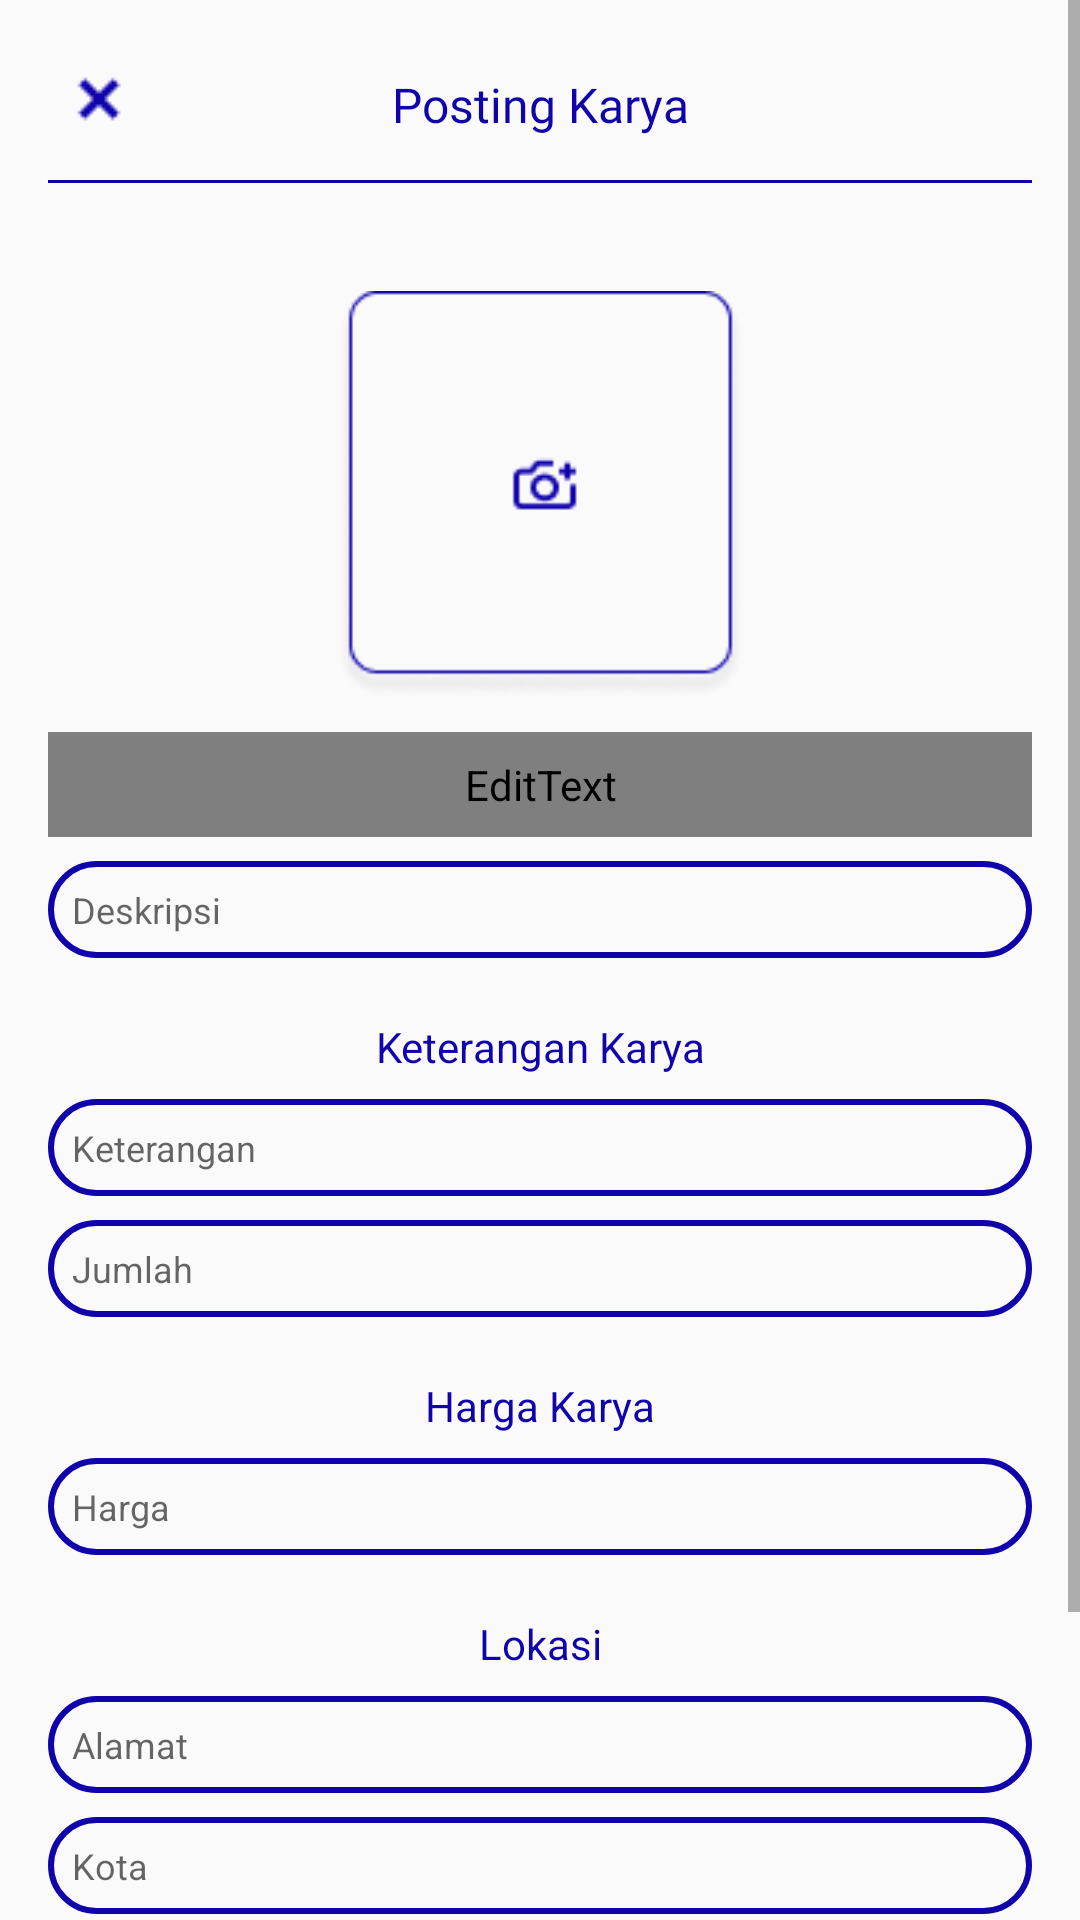

Where icons sit on this 1080×1920 app screen, as (x1, y1, x2, y2):
tombolx: (77, 77, 121, 121)
